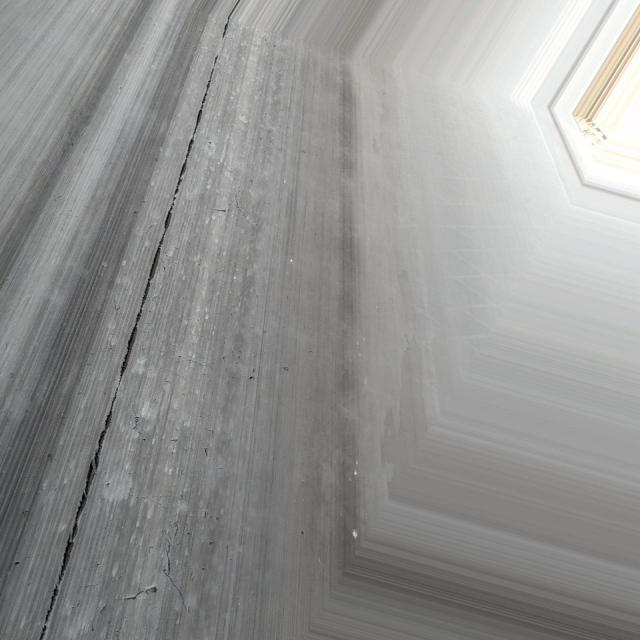Tear: (38, 4, 244, 640)
